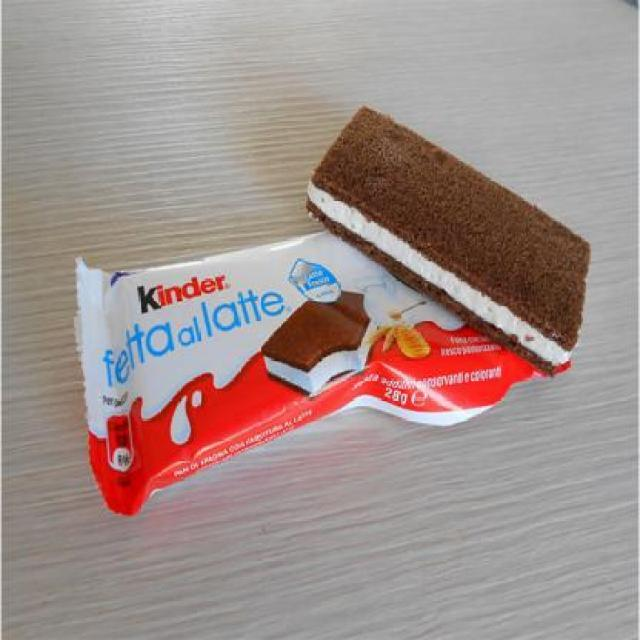Merendine: (68, 224, 594, 526)
Merendine packaged: (308, 100, 594, 394)
